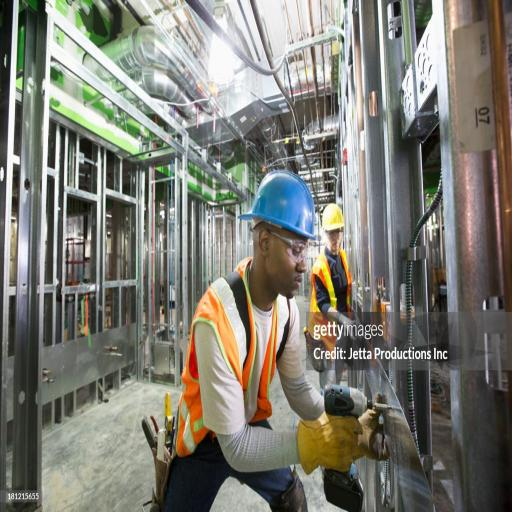gloves: (294, 389, 392, 478), (331, 306, 364, 349)
helmet: (236, 158, 319, 242), (322, 199, 346, 236)
jacket: (170, 236, 284, 460), (304, 244, 364, 362)
safety glasses: (258, 224, 314, 267), (320, 225, 350, 244)
